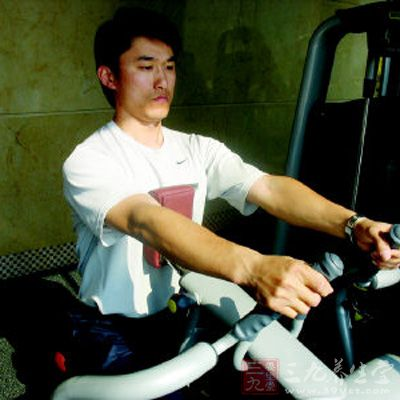normal: (62, 17, 399, 382)
